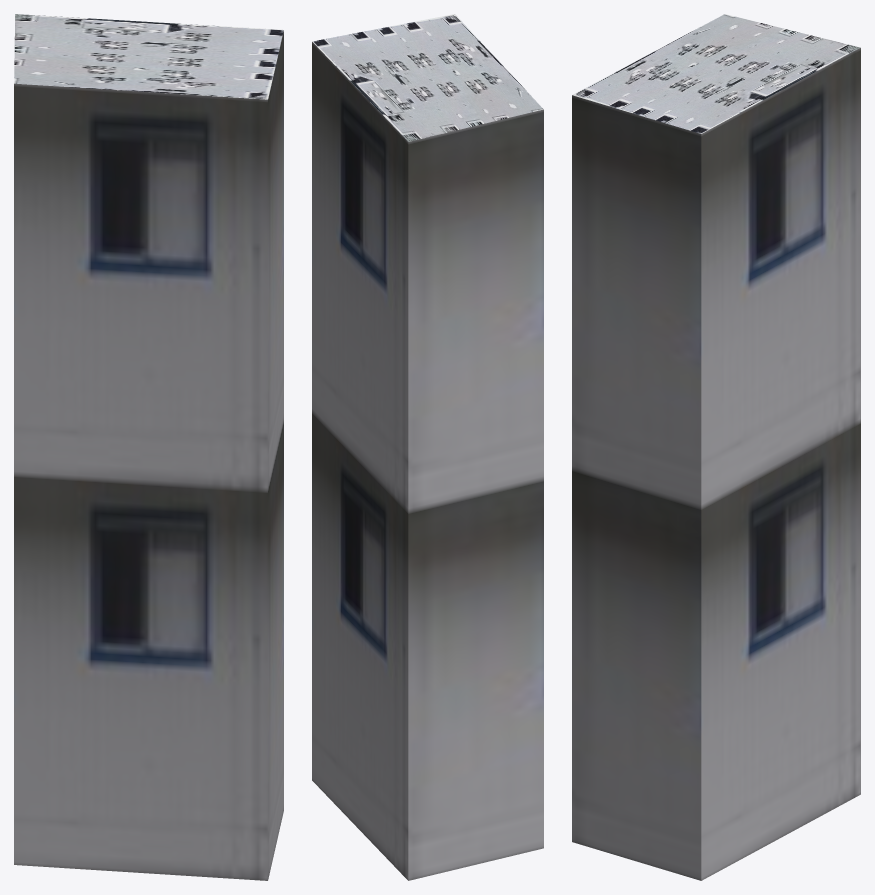
The model's file is ResTex__3662.fbx.
3 views of the same model, side by side, from view 1: azimuth 30°, elevation 25°; view 2: azimuth 150°, elevation 25°; view 3: azimuth 270°, elevation 25° (orthographic). The views are drawn at different scales.
Parts seen in each view (by area): view 1: CityEngineMaterial_9_m, CityEngineMaterial_8_m; view 2: CityEngineMaterial_9_m, CityEngineMaterial_8_m; view 3: CityEngineMaterial_9_m, CityEngineMaterial_8_m.
Part boxes in pixels (<box>): CityEngineMaterial_9_m: <box>14,30,283,880</box>; CityEngineMaterial_8_m: <box>14,14,283,99</box>; CityEngineMaterial_9_m: <box>312,42,543,880</box>; CityEngineMaterial_8_m: <box>312,14,543,141</box>; CityEngineMaterial_9_m: <box>572,48,860,880</box>; CityEngineMaterial_8_m: <box>572,14,860,133</box>.
Size of the model in its own units: 2.07 by 6 by 2.1.
Materials: 2 (2 with a texture image).
